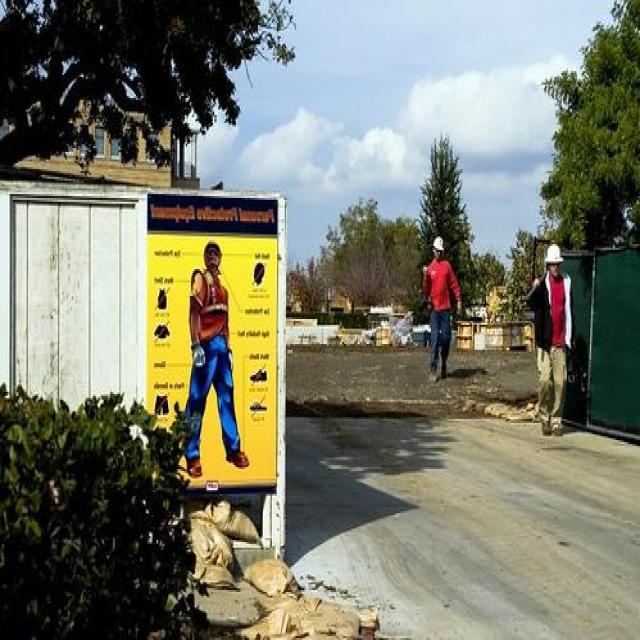reflective_jacket: (536, 272, 571, 352), (424, 259, 456, 317)
safety_helmet: (544, 240, 566, 267), (431, 232, 448, 254)
